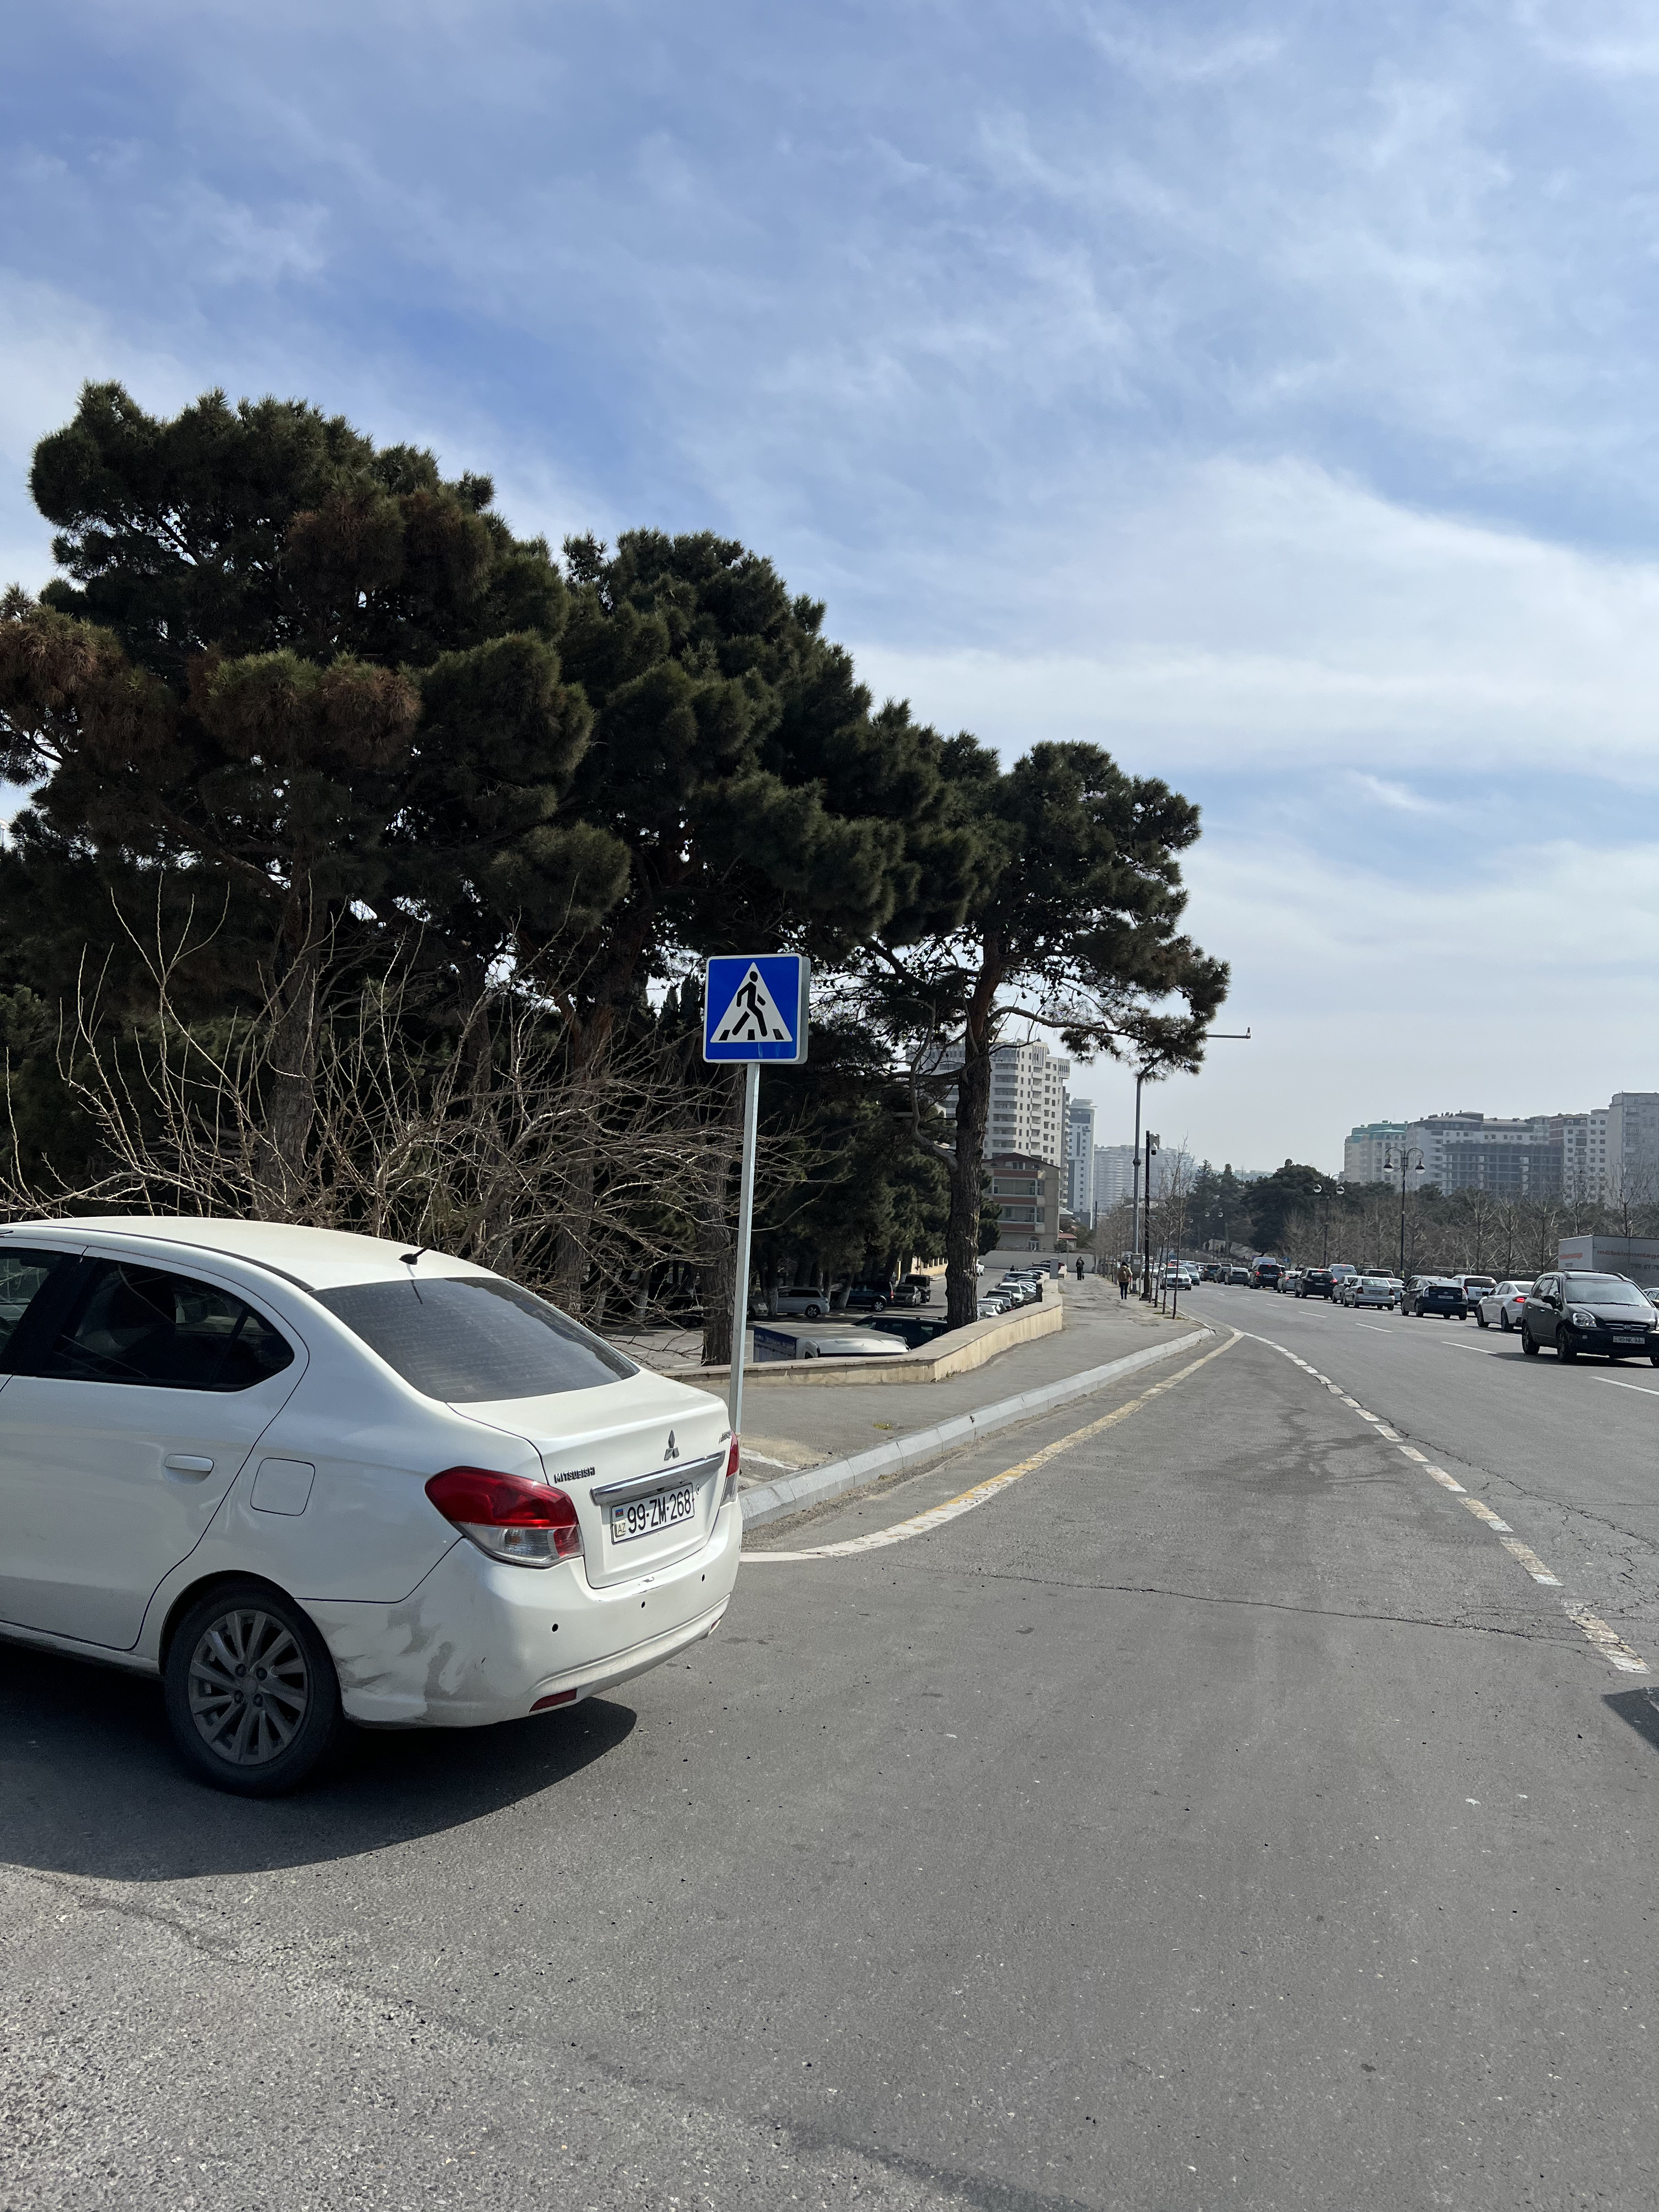Pedestrian Crossing: (702, 954, 803, 1062)
